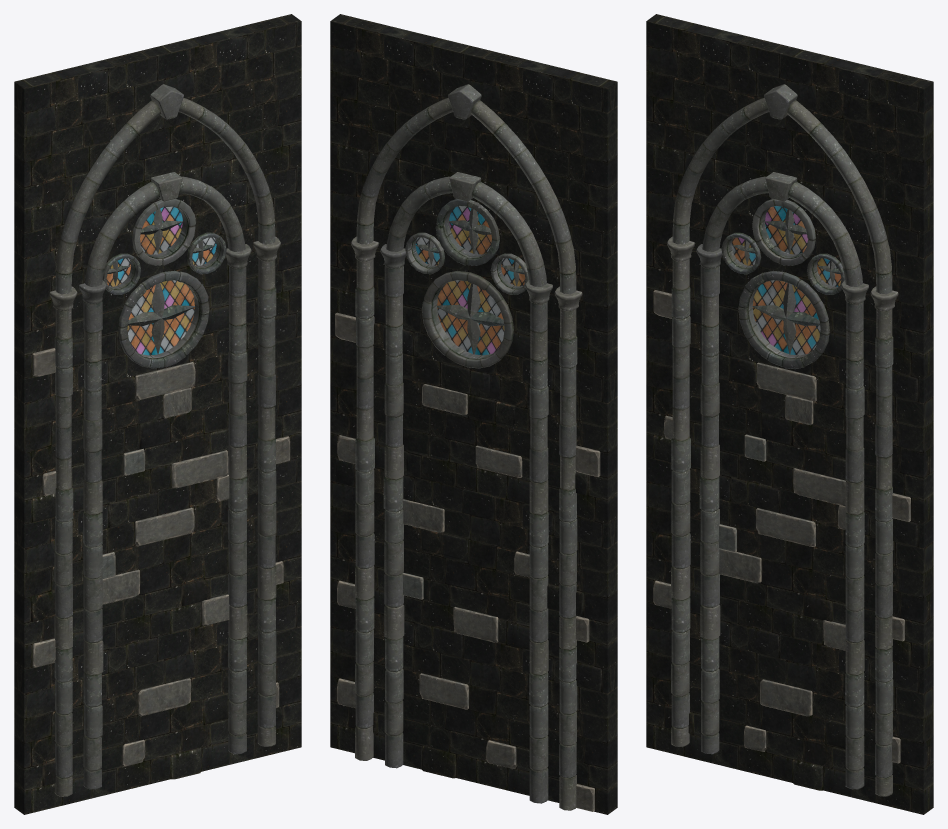
3 views of the same model, side by side, from view 1: azimuth 30°, elevation 25°; view 2: azimuth 150°, elevation 25°; view 3: azimuth 330°, elevation 25° (orthographic).
Visible parts, largest first — view 1: SM_SaradominTemple_Window_8x20_03_v1_LOD0; view 2: SM_SaradominTemple_Window_8x20_03_v1_LOD0; view 3: SM_SaradominTemple_Window_8x20_03_v1_LOD0.
Boxes of the visible parts, box(x1,y1,x2,y2) form: SM_SaradominTemple_Window_8x20_03_v1_LOD0: box(14, 14, 301, 814); SM_SaradominTemple_Window_8x20_03_v1_LOD0: box(330, 14, 617, 814); SM_SaradominTemple_Window_8x20_03_v1_LOD0: box(646, 14, 933, 814).
Size of the model in its own units: 8 by 20 by 1.44.
Materials: 4 (4 with a texture image).
